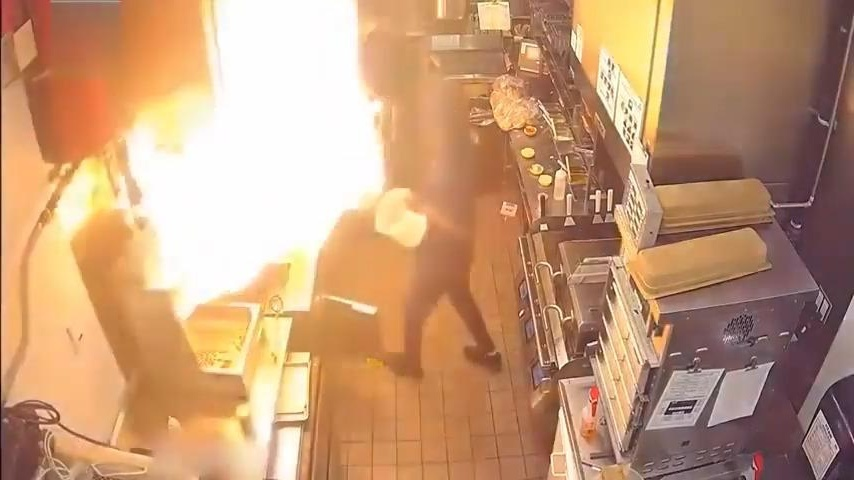fire: (16, 0, 401, 309)
